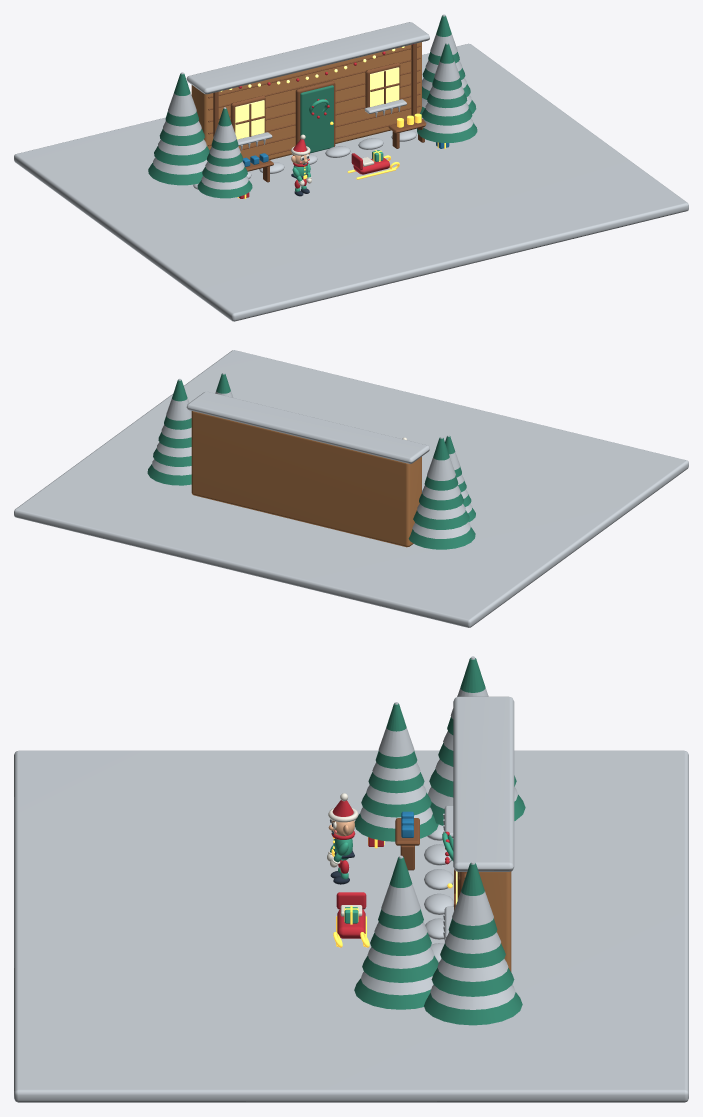
File: chapter-17.glb
The picture shows the model from 3 angles, top to bottom: view 1: azimuth 30°, elevation 25°; view 2: azimuth 150°, elevation 25°; view 3: azimuth 270°, elevation 25°; orthographic projection. The views are drawn at different scales.
Parts seen in each view (by area): view 1: Schneeboden, Werkstatt, Schneegesims, Wichteltür, Warmes Fenster, Warmes Fenster.001, Tannenzweig.008, Tannenzweig.009, Türrahmen, Tannenzweig.004, Tannenzweig.011, Schnee.011 (+6 smaller); view 2: Schneeboden, Werkstatt, Schneegesims, Tannenzweig.008, Tannenzweig.009, Tannenzweig.011, Schnee.008, Schnee.011, Tannenzweig.015, Tannenzweig.012, Tannenzweig.010, Schnee.009 (+1 smaller); view 3: Schneeboden, Schneegesims, Werkstatt, Tannenzweig.012, Tannenzweig.013, Tannenzweig.015, Schnee.012, Tannenzweig.005, Tannenzweig.004, Schnee.015, Tannenzweig.007, Schnee.013 (+14 smaller).
Boxes of the visible parts, <box> form: Schneeboden: <box>14,43,688,321</box>; Werkstatt: <box>191,42,421,160</box>; Schneegesims: <box>186,22,429,94</box>; Wichteltür: <box>300,85,333,153</box>; Warmes Fenster: <box>235,100,264,139</box>; Warmes Fenster.001: <box>370,67,399,106</box>; Tannenzweig.008: <box>148,163,202,185</box>; Tannenzweig.009: <box>154,146,209,165</box>; Türrahmen: <box>295,81,335,146</box>; Tannenzweig.004: <box>417,122,477,142</box>; Tannenzweig.011: <box>165,73,198,126</box>; Schnee.011: <box>168,72,196,116</box>; Schneeboden: <box>14,350,688,627</box>; Werkstatt: <box>191,411,421,547</box>; Schneegesims: <box>186,391,429,463</box>; Tannenzweig.008: <box>408,527,475,549</box>; Tannenzweig.009: <box>413,510,469,529</box>; Tannenzweig.011: <box>424,437,458,490</box>; Schnee.008: <box>412,522,470,538</box>; Schnee.011: <box>427,436,455,480</box>; Tannenzweig.015: <box>164,380,191,429</box>; Tannenzweig.012: <box>147,464,191,485</box>; Tannenzweig.010: <box>419,493,463,510</box>; Schnee.009: <box>417,504,465,519</box>; Schneeboden: <box>14,750,688,1102</box>; Schneegesims: <box>453,696,514,871</box>; Werkstatt: <box>466,871,511,971</box>; Tannenzweig.012: <box>424,992,522,1025</box>; Tannenzweig.013: <box>431,968,514,996</box>; Tannenzweig.015: <box>448,863,497,939</box>; Schnee.012: <box>430,985,515,1009</box>; Tannenzweig.005: <box>362,955,438,982</box>; Tannenzweig.004: <box>354,978,430,1009</box>; Schnee.015: <box>452,861,493,925</box>; Tannenzweig.007: <box>378,857,423,929</box>; Schnee.013: <box>437,959,508,981</box>.
Size of the model in its own units: 18 by 4.39 by 15.
